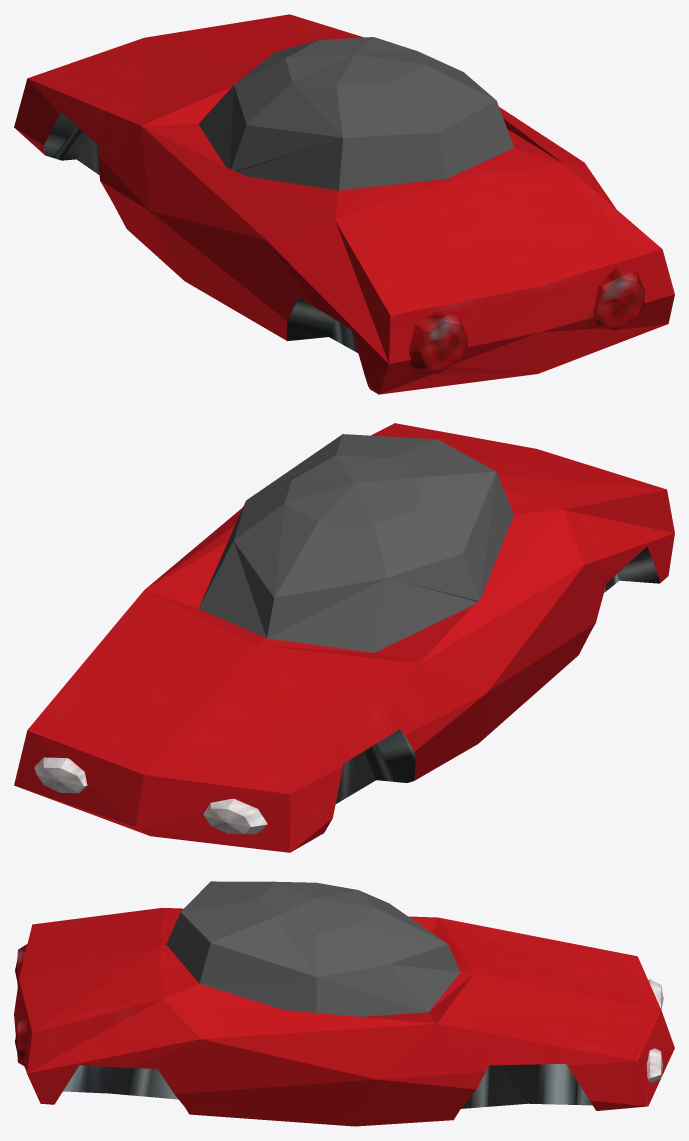
Rendered from hteccar.glb.
3 views of the same model, one above another, from view 1: azimuth 30°, elevation 25°; view 2: azimuth 150°, elevation 25°; view 3: azimuth 270°, elevation 25° (orthographic). The views are drawn at different scales.
Visible parts, largest first — view 1: carmesh1, glass1; view 2: carmesh1, glass1; view 3: carmesh1, glass1.
Boxes of the visible parts, x1,y1,x2,y2 form: carmesh1: [14, 14, 674, 394]; glass1: [198, 37, 514, 190]; carmesh1: [14, 423, 674, 852]; glass1: [198, 434, 513, 652]; carmesh1: [14, 907, 674, 1126]; glass1: [166, 881, 460, 1016].
Bounding box in the file's own units: 4 × 2.45 × 8.38.
Materials: 2 (2 with a texture image).
